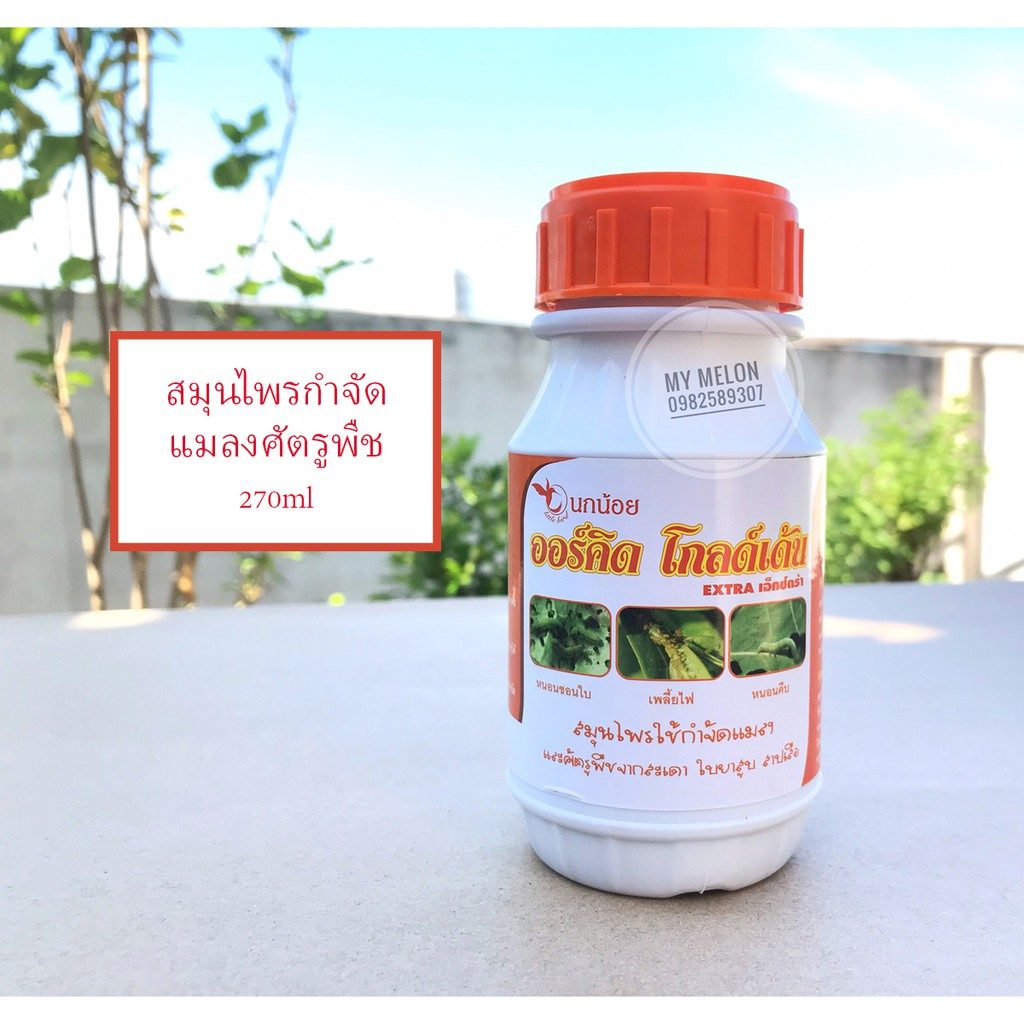Insecticide: (492, 150, 838, 923)
